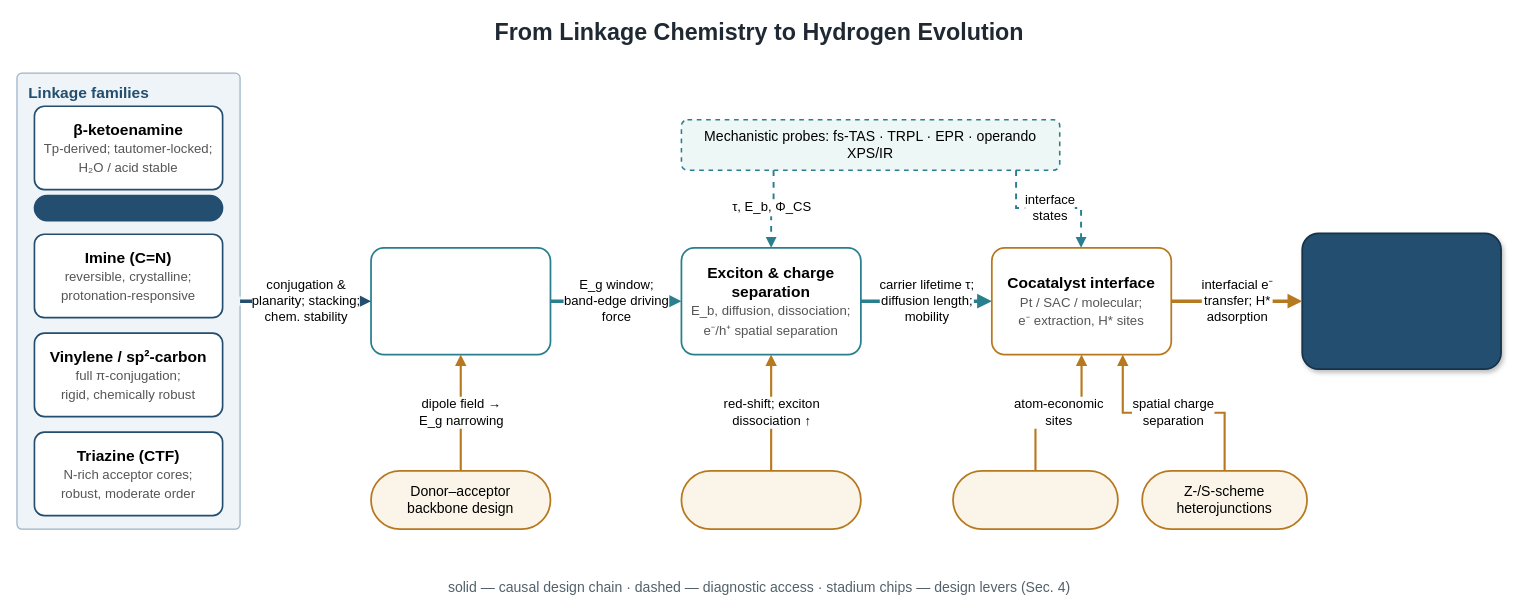
The diagram is 1525 pixels wide and 615 high, and some of its shapes have lost their labels. Here are the shapes that lost their labels. From the top down, the centre of each, then its label:
the point at 128,207: workhorse: TpPa-1
the point at 460,300: Band structure optical gap E_g; CBM / VBM vs H⁺/H₂
the point at 1402,302: HER performance rate · AQY(λ) · STH stability (h, cycles)
the point at 770,500: Protonation / acid engineering
the point at 1035,500: Single-atom cocatalysts (Pt₁)
